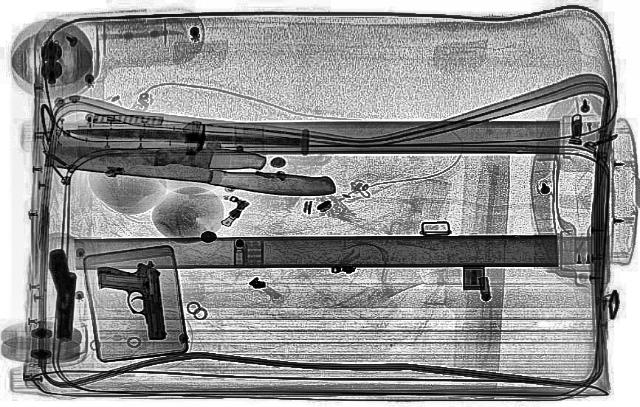Gun: (94, 260, 170, 342), (44, 249, 80, 341)
Knife: (40, 113, 348, 199), (42, 138, 266, 172), (64, 122, 302, 150)
